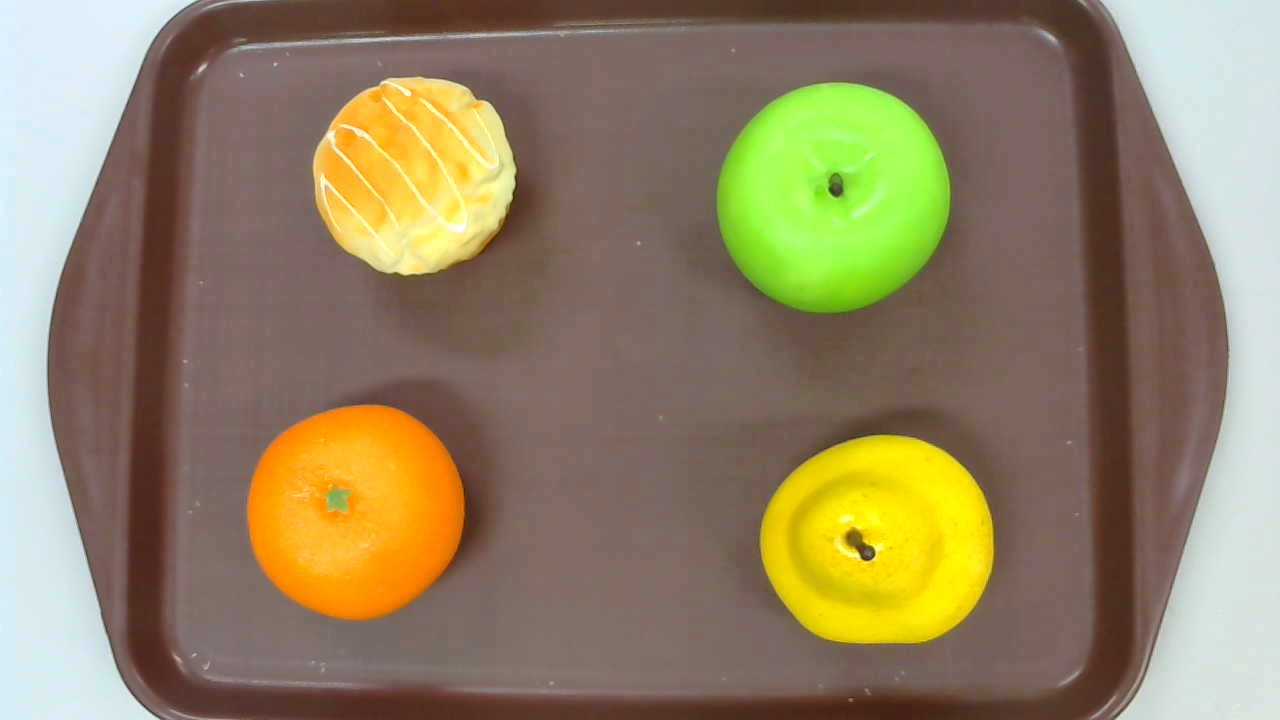cupcake: (311, 77, 519, 277)
green apple: (716, 81, 950, 316)
orange: (247, 403, 465, 620)
yellow pear: (759, 434, 994, 644)
